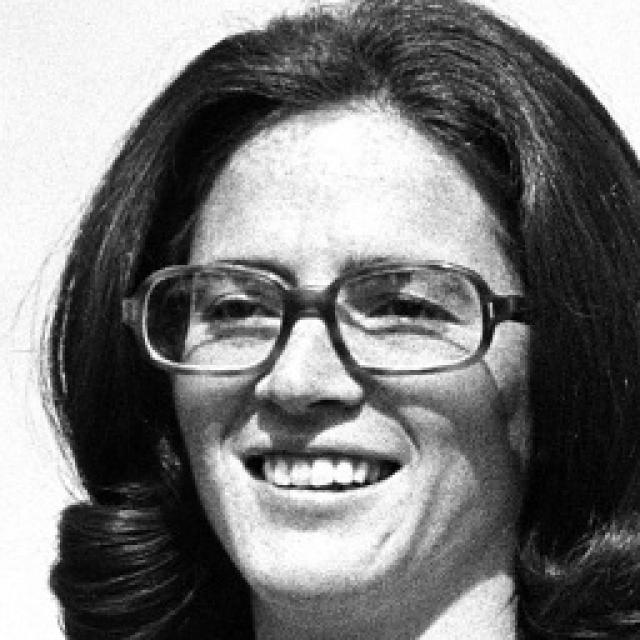glasses: (115, 250, 533, 385)
